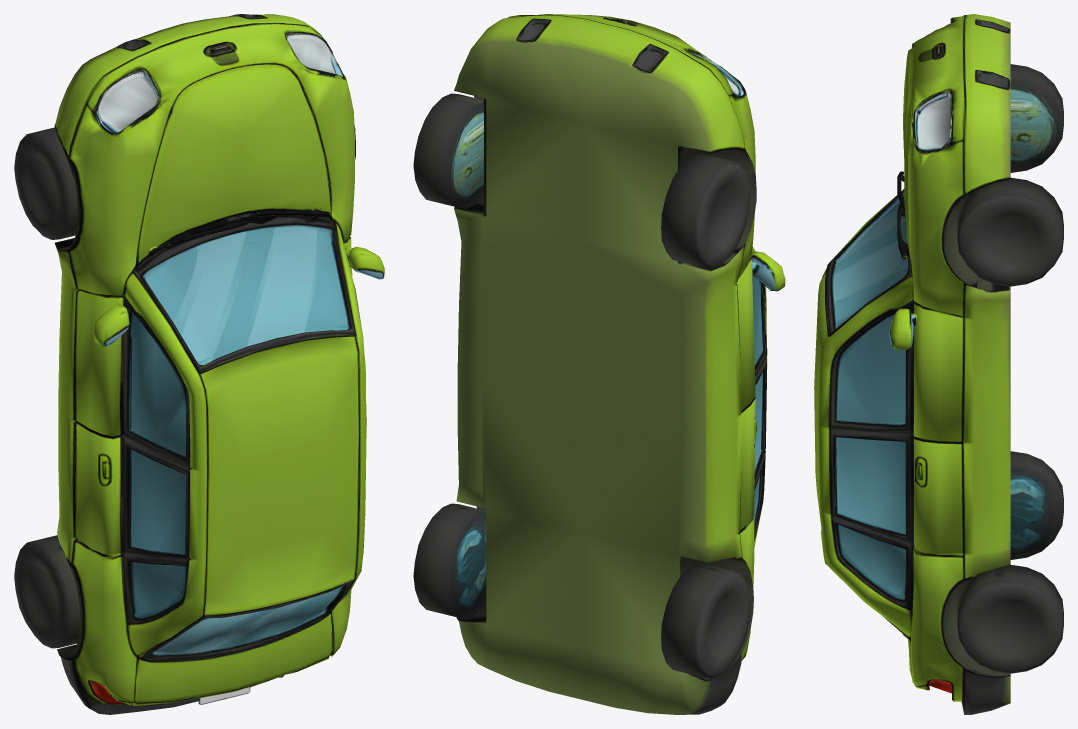
Rendered from selected.fbx.
3 renders of one model, left to right at view 1: azimuth 30°, elevation 25°; view 2: azimuth 150°, elevation 25°; view 3: azimuth 270°, elevation 25°, orthographic. The views are drawn at different scales.
Parts seen in each view (by area): view 1: tripo_node_1ea7fe96-26b0-4e0f-abf2-c833a7f9376a; view 2: tripo_node_1ea7fe96-26b0-4e0f-abf2-c833a7f9376a; view 3: tripo_node_1ea7fe96-26b0-4e0f-abf2-c833a7f9376a.
Boxes of the visible parts, left/top/right/bottom form: tripo_node_1ea7fe96-26b0-4e0f-abf2-c833a7f9376a: left=14, top=14, right=384, bottom=714; tripo_node_1ea7fe96-26b0-4e0f-abf2-c833a7f9376a: left=413, top=14, right=785, bottom=714; tripo_node_1ea7fe96-26b0-4e0f-abf2-c833a7f9376a: left=814, top=14, right=1063, bottom=714.
Size of the model in its own units: 44.73 by 99.8 by 35.74.
1 material, 1 textured.
